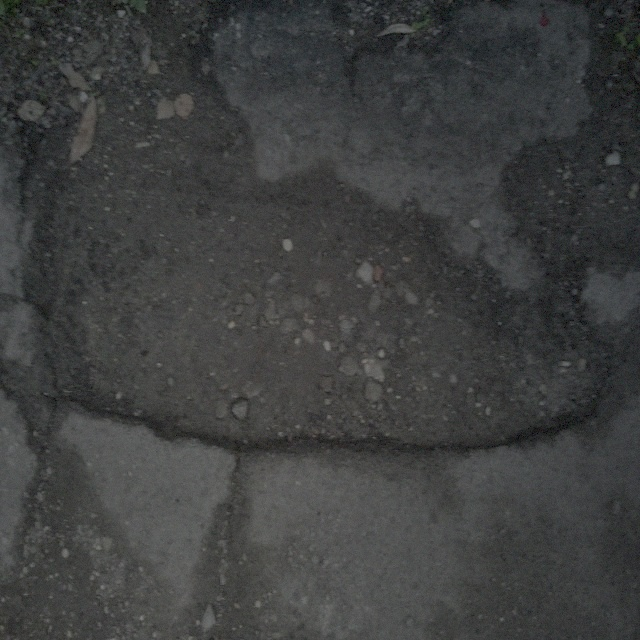pothole: (17, 41, 613, 472)
